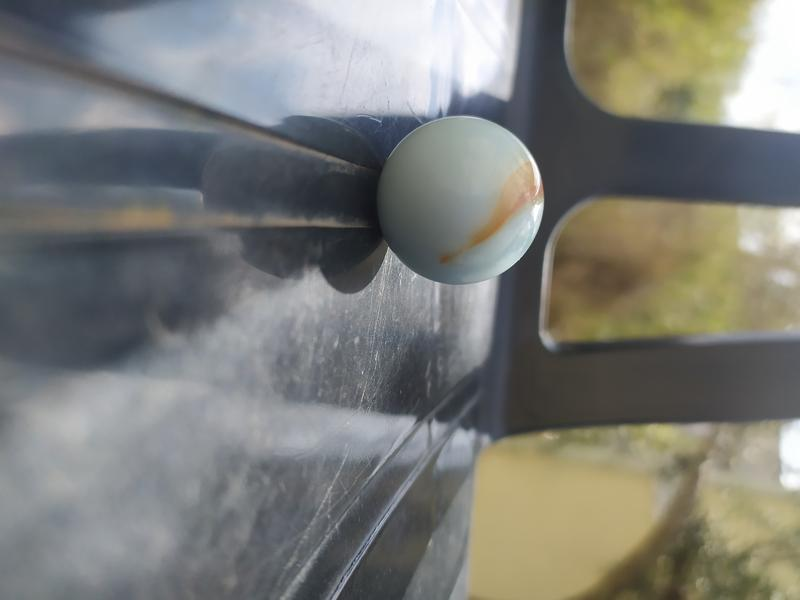Warning: (373, 111, 548, 289)
